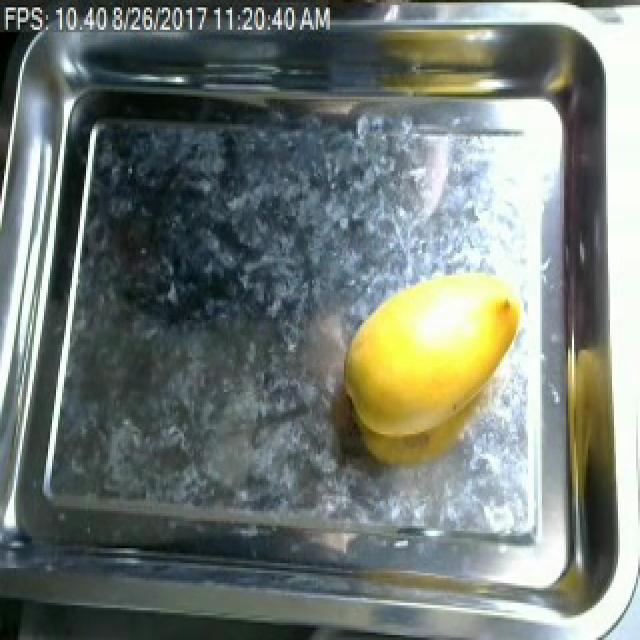fruit: (328, 263, 530, 454), (470, 5, 596, 102)
